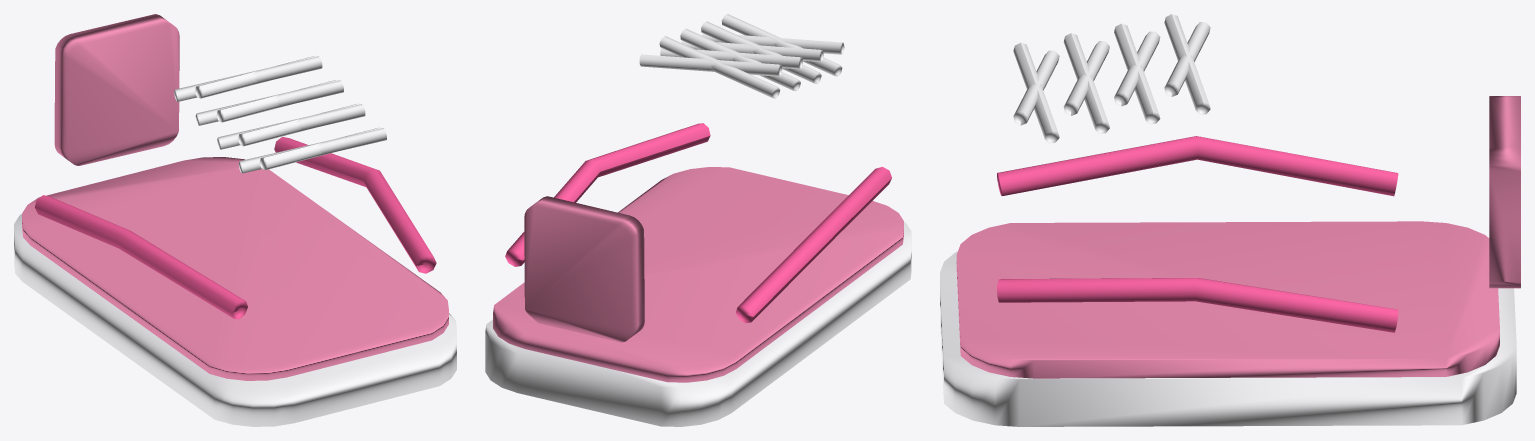
Rendered from pixel_left_shoe_trim.glb.
3 views of the same model, side by side, from view 1: azimuth 30°, elevation 25°; view 2: azimuth 150°, elevation 25°; view 3: azimuth 270°, elevation 25° (orthographic). The views are drawn at different scales.
Visible parts, largest first — view 1: pixel_left_shoe_trim; view 2: pixel_left_shoe_trim; view 3: pixel_left_shoe_trim.
Part boxes in pixels (x1,y1,x2,y2): pixel_left_shoe_trim: [14, 14, 456, 426]; pixel_left_shoe_trim: [485, 14, 911, 426]; pixel_left_shoe_trim: [940, 14, 1520, 426].
Bounding box in the file's own units: 0.172 × 0.1622 × 0.277.
